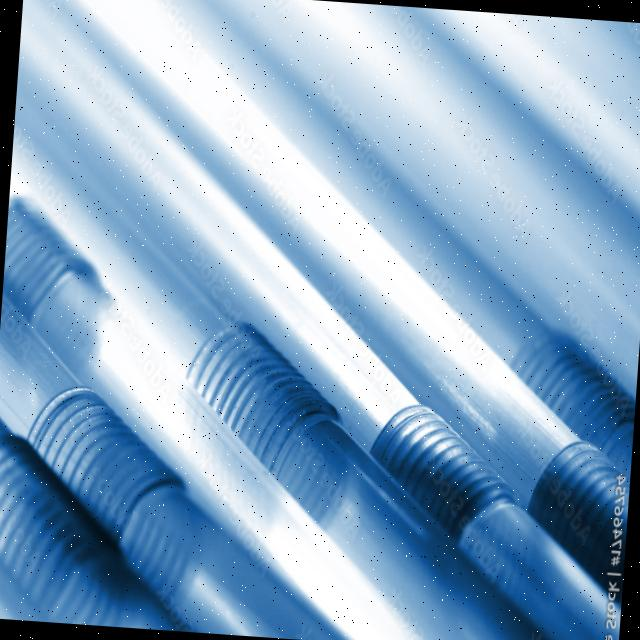plastic: (0, 344, 247, 634)
